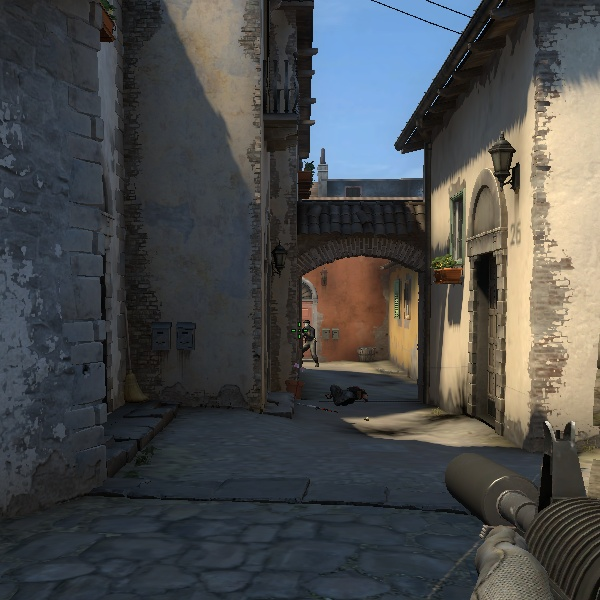t_body: (294, 316, 323, 368)
